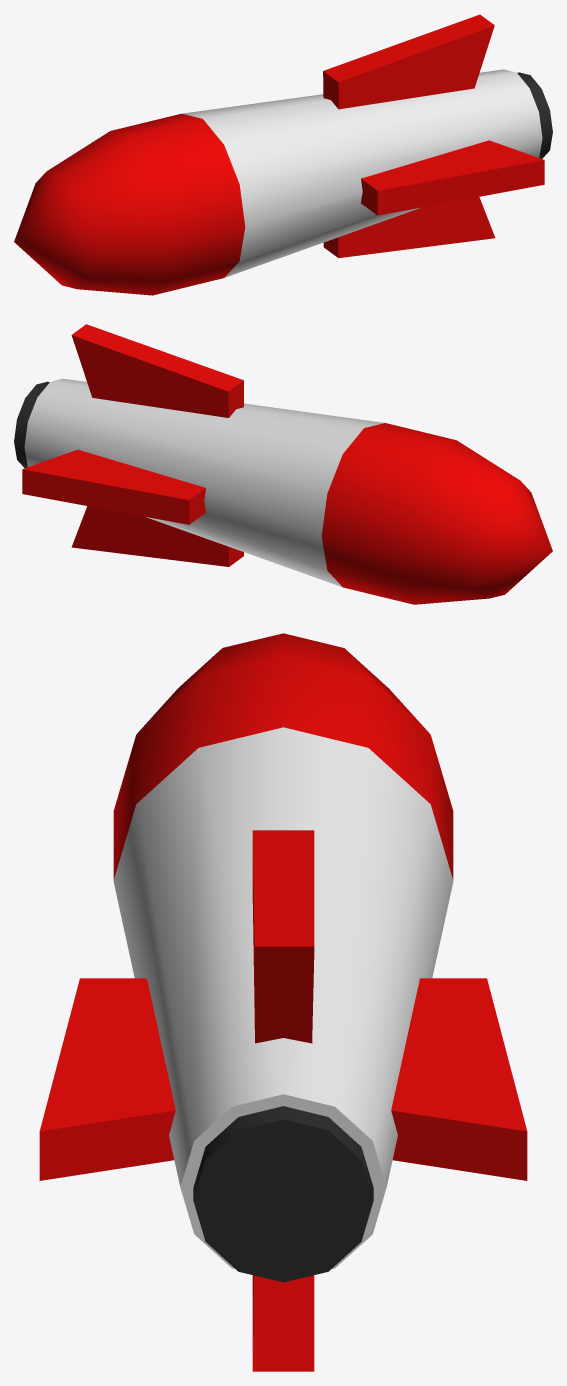
The model's file is Missile.fbx.
The picture shows the model from 3 angles, top to bottom: view 1: azimuth 30°, elevation 25°; view 2: azimuth 150°, elevation 25°; view 3: azimuth 270°, elevation 25°; orthographic projection. The views are drawn at different scales.
Parts seen in each view (by area): view 1: Missile; view 2: Missile; view 3: Missile.
Part boxes in pixels (<box>): Missile: <box>14,14,552,295</box>; Missile: <box>14,324,552,604</box>; Missile: <box>39,633,527,1371</box>.
Bounding box in the file's own units: 25.8 × 24.8 × 63.09.
